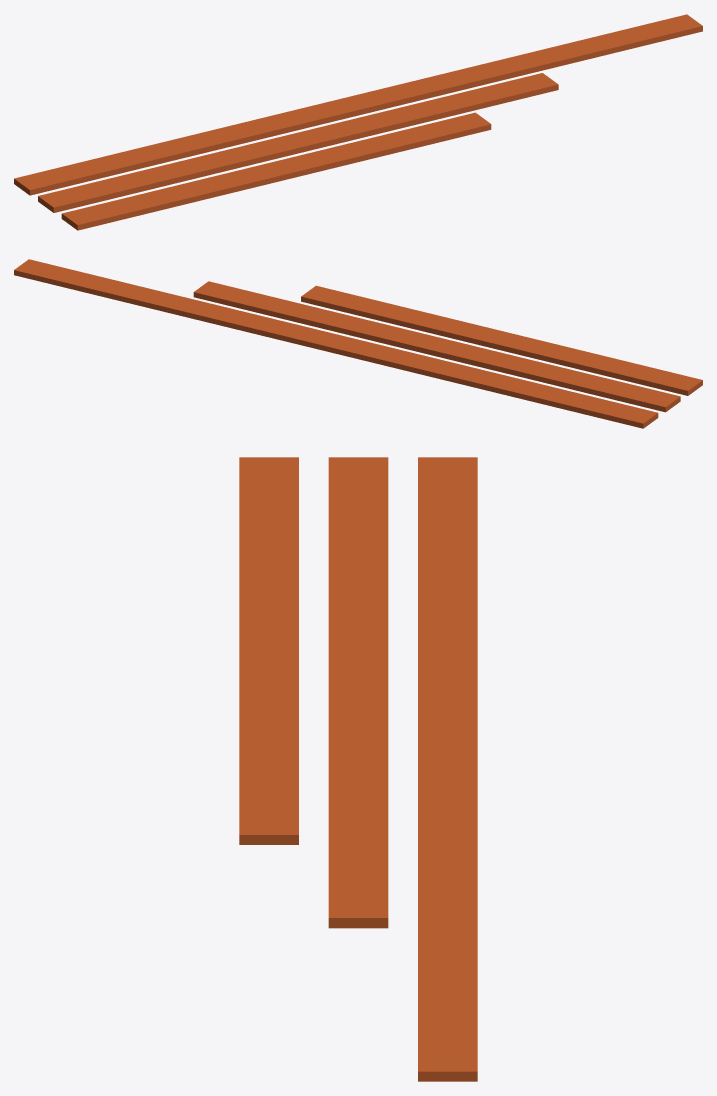
Rendered from deck-board-200x38_itauba-oro_v0.1.dae.
3 renders of one model, top to bottom at view 1: azimuth 30°, elevation 25°; view 2: azimuth 150°, elevation 25°; view 3: azimuth 270°, elevation 25°, orthographic. The views are drawn at different scales.
Visible parts, largest first — view 1: deck-board-200x38_deck-board-200x38_itauba-oro_4880mm, deck-board-200x38_deck-board-200x38_itauba-oro_3660mm, deck-board-200x38_deck-board-200x38_itauba-oro_3000mm; view 2: deck-board-200x38_deck-board-200x38_itauba-oro_4880mm, deck-board-200x38_deck-board-200x38_itauba-oro_3660mm, deck-board-200x38_deck-board-200x38_itauba-oro_3000mm; view 3: deck-board-200x38_deck-board-200x38_itauba-oro_4880mm, deck-board-200x38_deck-board-200x38_itauba-oro_3660mm, deck-board-200x38_deck-board-200x38_itauba-oro_3000mm.
Boxes of the visible parts, x1=… form: deck-board-200x38_deck-board-200x38_itauba-oro_4880mm: x1=14, y1=14, x2=702, y2=195; deck-board-200x38_deck-board-200x38_itauba-oro_3660mm: x1=38, y1=73, x2=558, y2=212; deck-board-200x38_deck-board-200x38_itauba-oro_3000mm: x1=61, y1=112, x2=491, y2=230; deck-board-200x38_deck-board-200x38_itauba-oro_4880mm: x1=14, y1=259, x2=658, y2=428; deck-board-200x38_deck-board-200x38_itauba-oro_3660mm: x1=193, y1=281, x2=680, y2=412; deck-board-200x38_deck-board-200x38_itauba-oro_3000mm: x1=301, y1=285, x2=702, y2=395; deck-board-200x38_deck-board-200x38_itauba-oro_4880mm: x1=418, y1=457, x2=477, y2=1081; deck-board-200x38_deck-board-200x38_itauba-oro_3660mm: x1=328, y1=457, x2=388, y2=928; deck-board-200x38_deck-board-200x38_itauba-oro_3000mm: x1=239, y1=457, x2=298, y2=844.
Bounding box in the file's own units: 4880 × 800 × 38.
